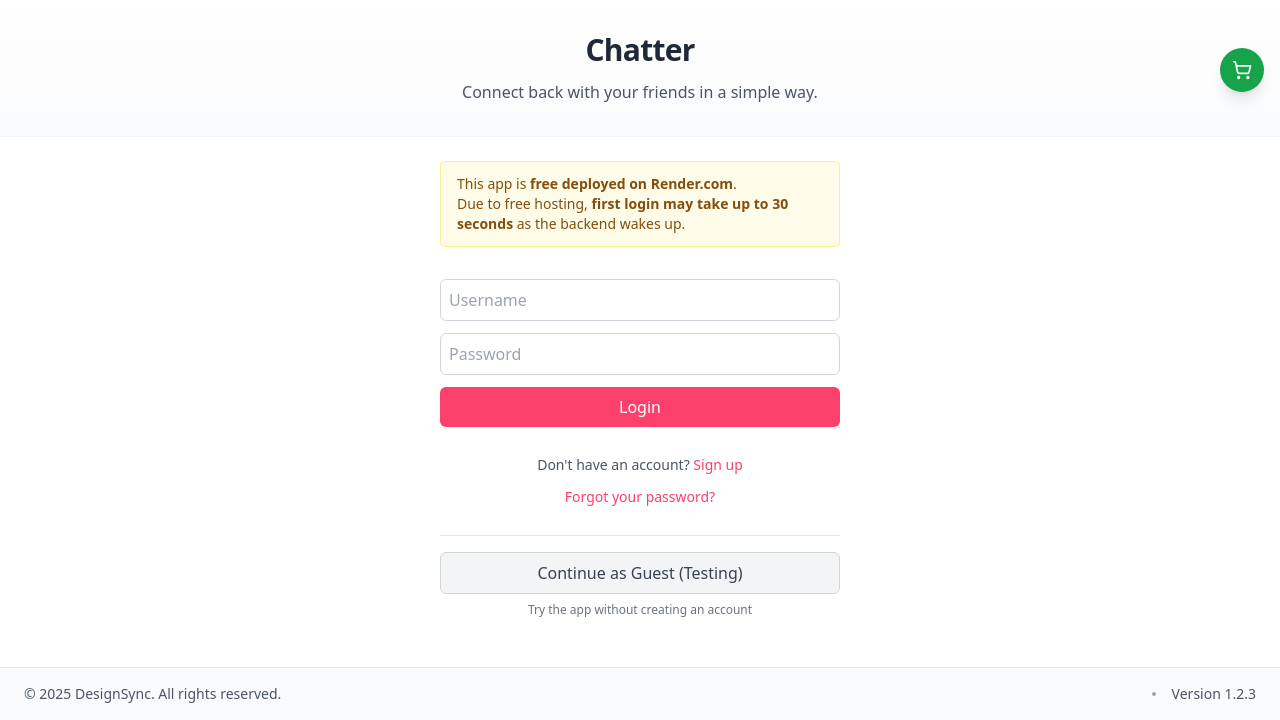
Scenario: Buy Request Feature › should close overlay when cancel button is clicked
The image size is (1280, 720).
# Open form
Click the button with test id "floating-buy-button" at (1242, 70), box [1220,48,1264,92]
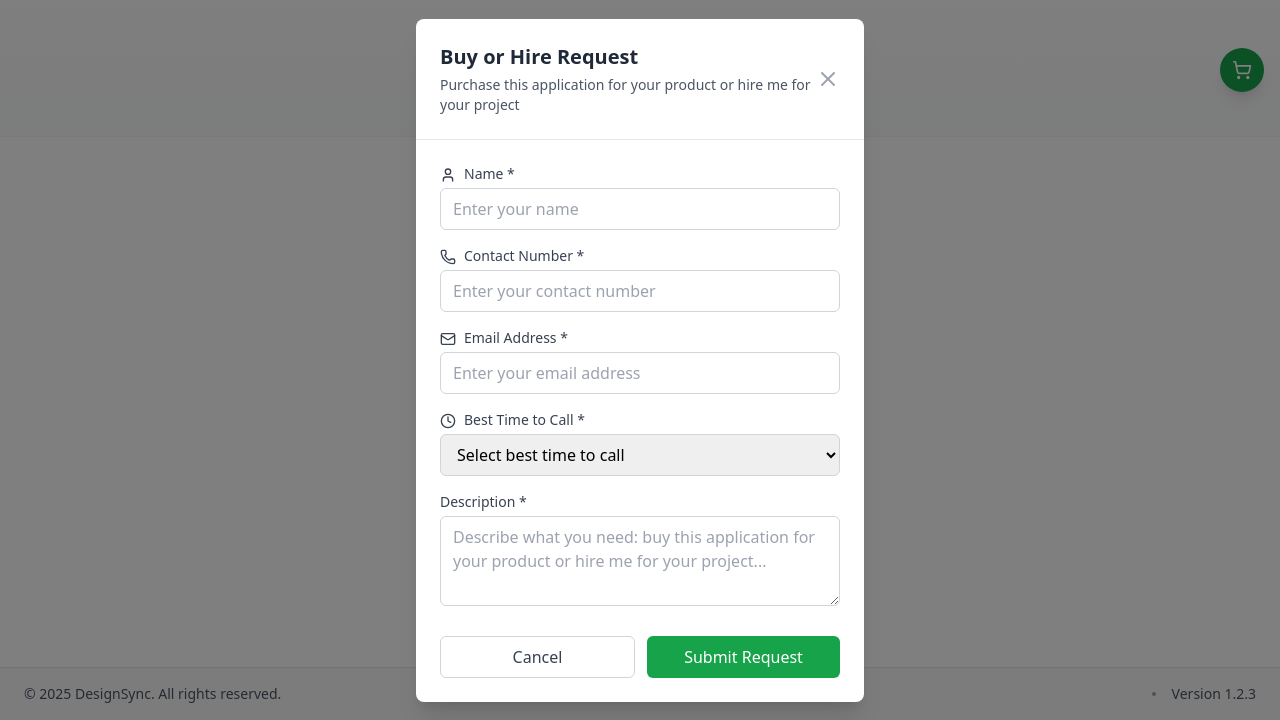
Check: the element with test id "buy-form-overlay" is shown
# Click cancel
Click the button with test id "buy-form-cancel" at (538, 657), box [440,636,635,678]
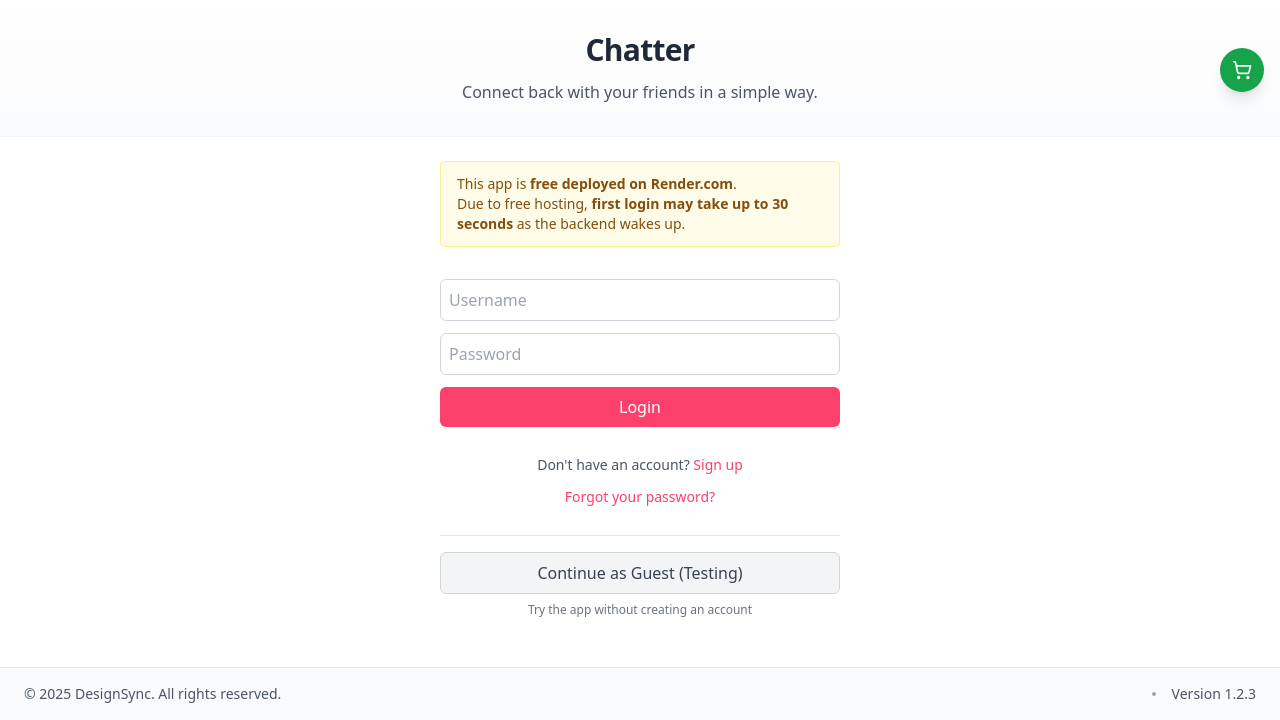
Check: the element with test id "buy-form-overlay" is gone
